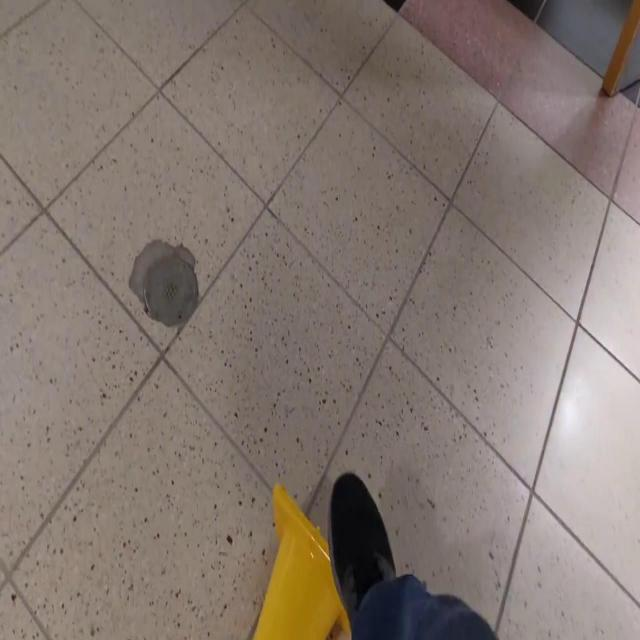frc_cone: (253, 479, 331, 640)
